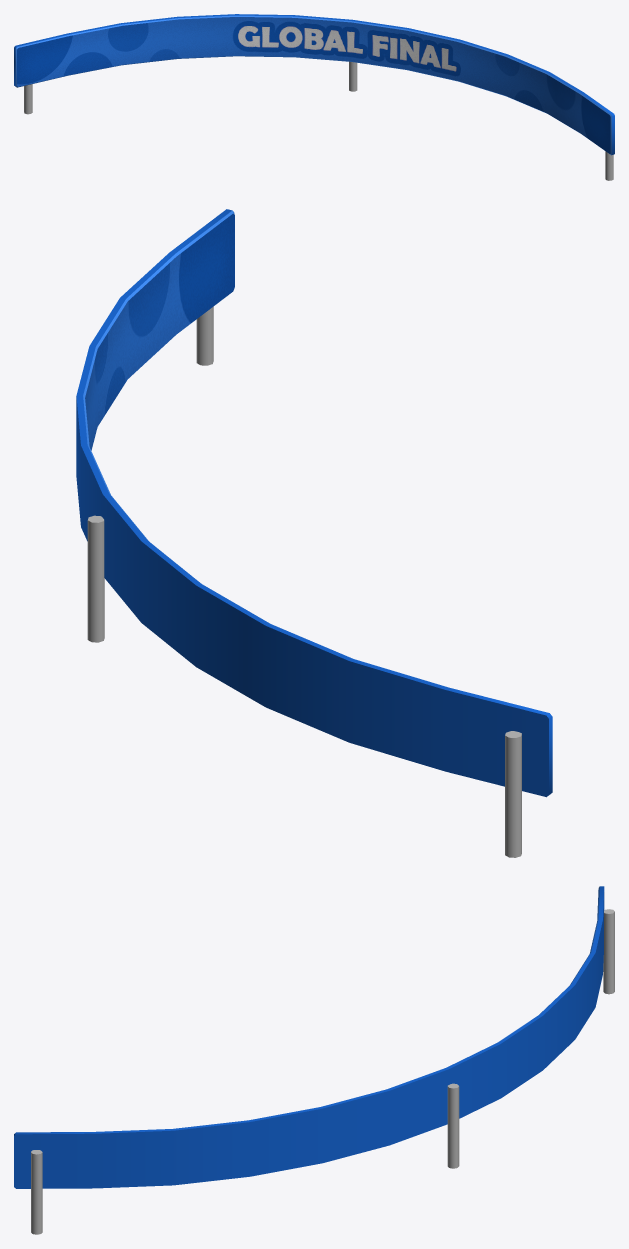
Rendered from billboards_OnColumn_corner_1_A.fbx.
3 views of the same model, one above another, from view 1: azimuth 30°, elevation 25°; view 2: azimuth 150°, elevation 25°; view 3: azimuth 270°, elevation 25° (orthographic). The views are drawn at different scales.
Visible parts, largest first — view 1: billboards_OnColumn_corner_1_A; view 2: billboards_OnColumn_corner_1_A; view 3: billboards_OnColumn_corner_1_A.
Part boxes in pixels (x1,y1,x2,y2): billboards_OnColumn_corner_1_A: (14,14,614,180); billboards_OnColumn_corner_1_A: (76,209,552,857); billboards_OnColumn_corner_1_A: (14,886,614,1234).
Bounding box in the file's own units: 619 × 109 × 620.
